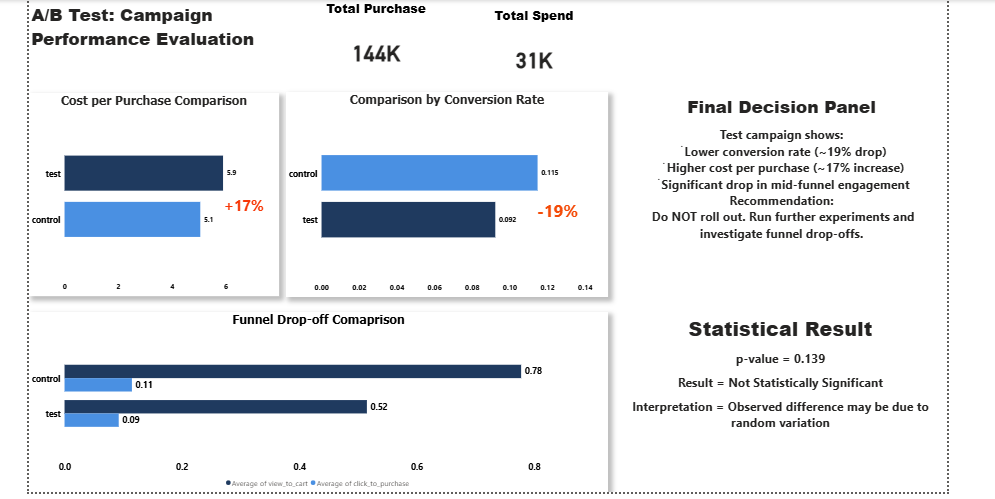

This screenshot's page, from the dashboard's own definition file:
{"tool":"powerbi","page":{"name":"Page 1","canvas":[2016,1080],"ordinal":0},"visuals":[{"type":"card","title":"Total Spend","fields":{"Values":["Sum(finall_ab_analysis.num_of_Purchase)"]},"box":[959.3,15.4,298.5,186.6],"z":0},{"type":"clusteredBarChart","title":"Comparison by Conversion Rate","fields":{"Y":["Avg(finall_ab_analysis.conversion_rate)"],"Category":["finall_ab_analysis.group"]},"box":[564.1,202,706.8,450],"z":0,"group":"g2"},{"type":"card","title":"Total Purchase","fields":{"Values":["Sum(finall_ab_analysis.Spend_USD)"]},"box":[612.4,0,298.5,186.6],"z":1000},{"type":"clusteredBarChart","title":"Cost per Purchase Comparison","fields":{"Category":["finall_ab_analysis.group"],"Y":["Avg(finall_ab_analysis.cost_per_purchase)"]},"box":[0,204.1,548.8,445.6],"z":1000,"group":"g1"},{"type":"clusteredBarChart","title":"Funnel Drop-off Comaprison","fields":{"Category":["finall_ab_analysis.group"],"Y":["Avg(finall_ab_analysis.view_to_cart)","Avg(finall_ab_analysis.click_to_purchase)"]},"box":[0,684.9,1271,395.1],"z":2000},{"type":"textbox","box":[1299.5,684.9,700.2,395.1],"z":3000},{"type":"textbox","box":[1299.5,202,704.6,450],"z":4000},{"type":"textbox","box":[0,0,636.6,186.6],"z":5000},{"type":"group","id":"g1","title":"Group 1","box":[0,204.1,548.8,445.6],"z":6000},{"type":"textbox","box":[1091.7,429.7,138.5,74.6],"z":6000,"group":"g2"},{"type":"group","id":"g2","title":"Group 2","box":[564.1,202,706.8,450],"z":7000},{"type":"textbox","box":[413.1,423.6,116.1,81.2],"z":8002,"group":"g1"}]}

Visuals, with their boxes on the page's 2016x1080 design canvas (x1, y1, x2, y2). These are canvas units, not pixel positions in the 995x499 screenshot, which may show the page scaled, cropped or inside an application window:
"Total Spend" card: 959:15:1258:202
"Comparison by Conversion Rate" clusteredBarChart: 564:202:1271:652
"Total Purchase" card: 612:0:911:187
"Cost per Purchase Comparison" clusteredBarChart: 0:204:549:650
"Funnel Drop-off Comaprison" clusteredBarChart: 0:685:1271:1080
textbox: 1300:685:2000:1080
textbox: 1300:202:2004:652
textbox: 0:0:637:187
"Group 1" group: 0:204:549:650
textbox: 1092:430:1230:504
"Group 2" group: 564:202:1271:652
textbox: 413:424:529:505
